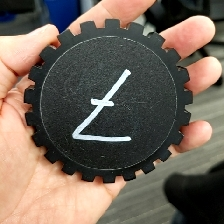gear: (22, 17, 195, 185)
